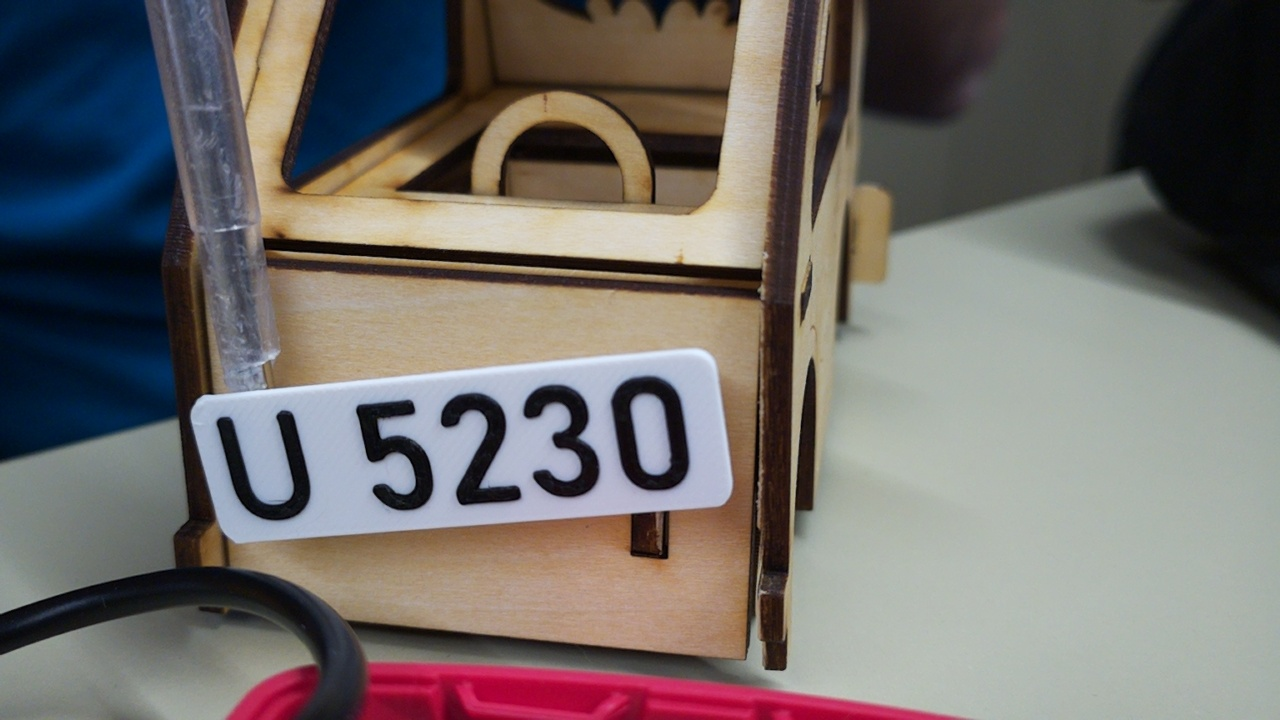license_plate: (186, 344, 737, 544)
